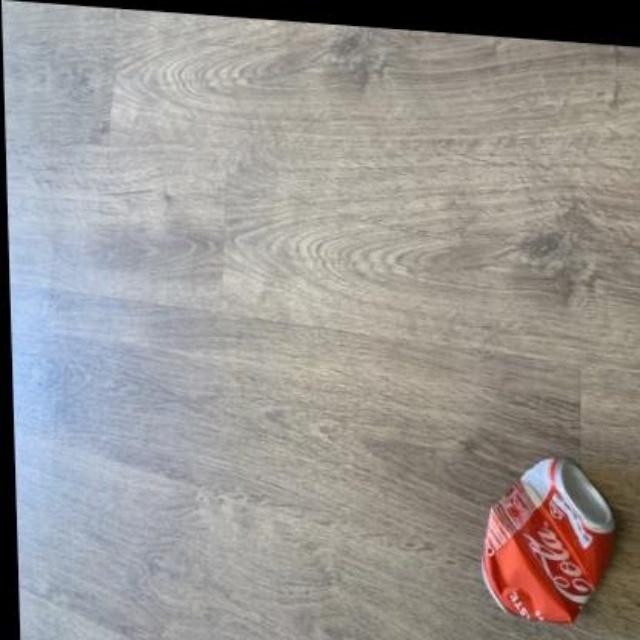trash: (482, 458, 614, 622)
